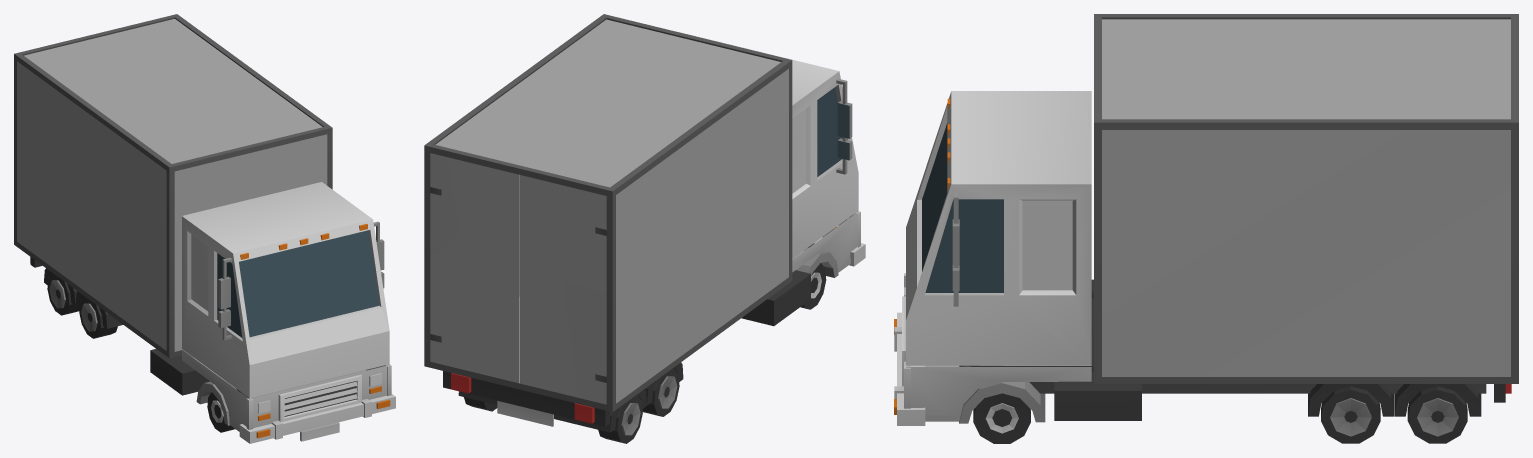
File: truck_005.glb
The picture shows the model from 3 angles, left to right: view 1: azimuth 30°, elevation 25°; view 2: azimuth 150°, elevation 25°; view 3: azimuth 270°, elevation 25°; orthographic projection. The views are drawn at different scales.
Visible parts, largest first — view 1: truck_005; view 2: truck_005; view 3: truck_005.
Boxes of the visible parts, <box> form: truck_005: <box>14,14,395,443</box>; truck_005: <box>424,14,865,443</box>; truck_005: <box>894,14,1518,443</box>.
Bounding box in the file's own units: 3.13 × 4.34 × 7.43.
Materials: 1 (1 with a texture image).
